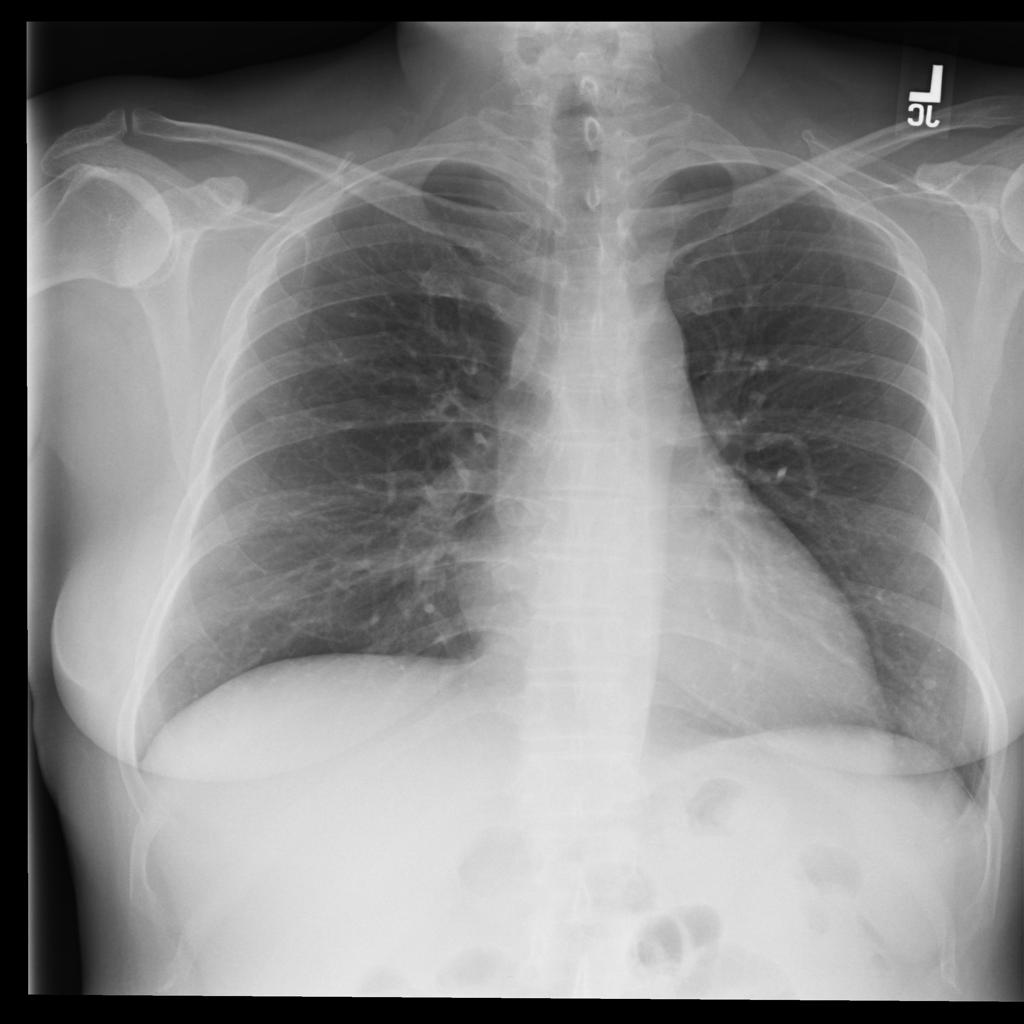nodule: (904, 652, 959, 700)
